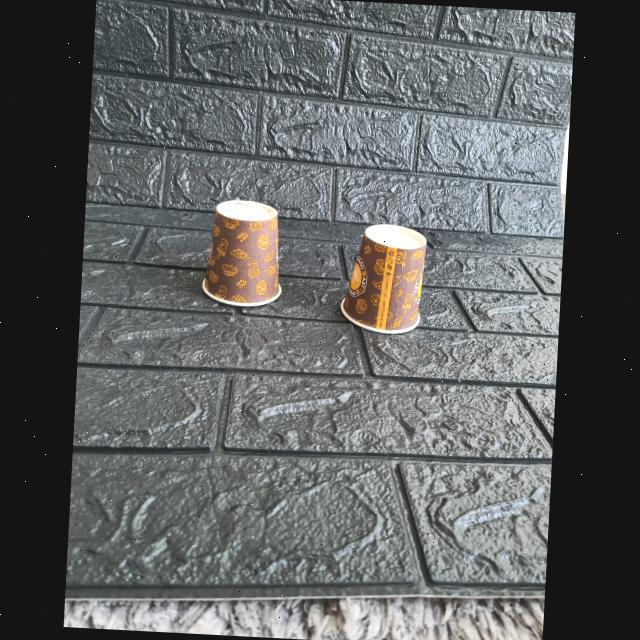trash: (336, 224, 436, 336), (204, 198, 293, 308)
